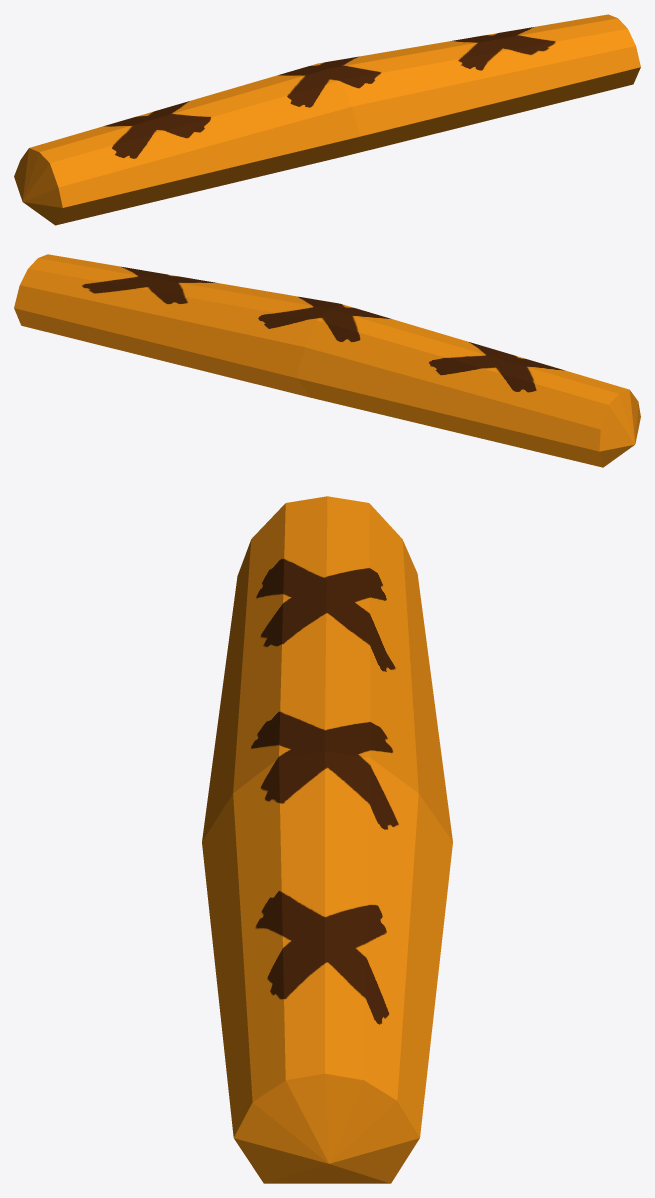
Rendered from yoots-round-3.glb.
3 renders of one model, top to bottom at view 1: azimuth 30°, elevation 25°; view 2: azimuth 150°, elevation 25°; view 3: azimuth 270°, elevation 25°, orthographic. The views are drawn at different scales.
Visible parts, largest first — view 1: Cylinder.007; view 2: Cylinder.007; view 3: Cylinder.007.
Part boxes in pixels (x1,y1,x2,y2): Cylinder.007: (14,14,640,225); Cylinder.007: (14,254,640,467); Cylinder.007: (202,496,452,1183).
Size of the model in its own units: 10.36 by 1.23 by 1.86.
Materials: 1 (1 with a texture image).
